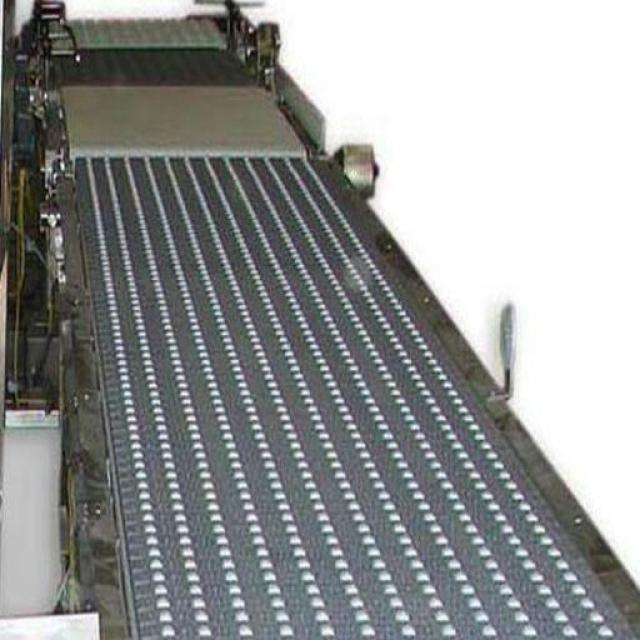conveyor: (27, 5, 640, 640)
